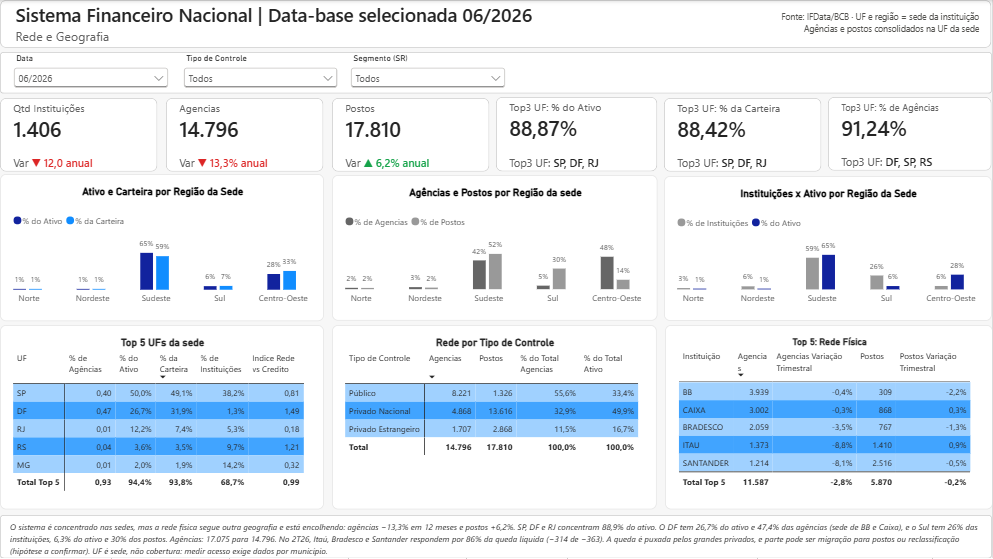

Layout of this report page (visuals, bound fields, positions):
{"tool":"powerbi","page":{"name":"Rede e Geografia","canvas":[1280,720],"ordinal":3},"visuals":[{"type":"shape","box":[0,664,1280,56],"z":0},{"type":"shape","box":[0,0,1279.1,61.8],"z":1000},{"type":"shape","box":[0,66.7,1280,53.6],"z":2000},{"type":"cardVisual","fields":{"Data":["_Medidas.Titulo Pagina"]},"box":[3.8,0,723.8,61.2],"z":3000},{"type":"textbox","box":[1695,30,213.8,46.2],"z":4000},{"type":"cardVisual","fields":{"Data":["_Medidas.Qtd Instituições"]},"box":[0,126.1,203.9,95.5],"z":5000},{"type":"cardVisual","fields":{"Data":["_Medidas.Agencias"]},"box":[214.3,126.1,203.6,95.7],"z":6000},{"type":"cardVisual","fields":{"Data":["_Medidas.Postos"]},"box":[428.4,126.1,203.9,95.5],"z":7000},{"type":"cardVisual","fields":{"Data":["_Medidas.Top3 UF Share Ativo"]},"box":[640.1,125.8,208.5,96.2],"z":8000},{"type":"cardVisual","fields":{"Data":["_Medidas.Top3 UF Share Agencias"]},"box":[1068.9,124.7,211.1,95.6],"z":9000},{"type":"clusteredColumnChart","title":"Ativo e Carteira por Região da Sede","fields":{"Category":["dim_uf.Regiao"],"Y":["_Medidas.Share Ativo (geo)","_Medidas.Share Carteira (geo)"]},"box":[0.1,224.3,418,190],"z":10000},{"type":"pivotTable","title":"Rede por Tipo de Controle","fields":{"Rows":["fato_ifdata.Tipo de Controle"],"Values":["_Medidas.Agencias","_Medidas.Postos","_Medidas.% do Total Agencias","_Medidas.% do Total Ativo"]},"box":[428.1,419.4,419,238],"z":11000},{"type":"textbox","box":[13,672,1254,47],"z":12000},{"type":"textbox","box":[958.8,13.7,304.7,47.3],"z":13000},{"type":"cardVisual","fields":{"Data":["_Medidas.Top3 UF Share Carteira"]},"box":[856.8,126.1,203.3,95.6],"z":14000},{"type":"slicer","fields":{"Values":["fato_ifdata.Tipo de Controle"]},"box":[231.8,68.5,208.2,51.8],"z":15000},{"type":"slicer","fields":{"Values":["fato_ifdata.Segmento (SR)"]},"box":[447.3,68.5,209.1,51.8],"z":16000},{"type":"slicer","fields":{"Values":["dim_calendario.Rotulo"]},"box":[12.7,68.5,209.1,51.8],"z":17000},{"type":"tableEx","title":"Top 5: Rede Física","fields":{"Values":["dim_instituicao.Instituição","_Medidas.Agencias","_Medidas.Agencias Var Trimestral %","_Medidas.Postos","_Medidas.Postos Var Trimestral %"]},"box":[858.1,419.4,423,238],"z":19000},{"type":"pivotTable","title":"Top 5 UFs da sede","fields":{"Rows":["dim_uf.UF"],"Values":["_Medidas.Share Agencias (geo)","_Medidas.Share Ativo (geo)","_Medidas.Share Carteira (geo)","_Medidas.Share Instituicoes (geo)","_Medidas.Indice Rede vs Credito (geo)"]},"box":[0,419.1,417.7,238.5],"z":20000},{"type":"clusteredColumnChart","title":"Agências e Postos por Região da sede","fields":{"Category":["dim_uf.Regiao"],"Y":["_Medidas.Share Agencias (geo)","_Medidas.Share Postos (geo)"]},"box":[428.1,226.3,420,188],"z":21000},{"type":"clusteredColumnChart","title":"Instituições x Ativo por Região da Sede","fields":{"Category":["dim_uf.Regiao"],"Y":["_Medidas.Share Instituicoes (geo)","_Medidas.Share Ativo (geo)"]},"box":[857.1,227.3,423,187],"z":22000}]}

Visuals, with their boxes in screenshot pixels (x1, y1, x2, y2), scaled from the page's 1280x720 canvas onto the 993x559 screenshot:
shape: (left=0, top=516, right=992, bottom=558)
shape: (left=0, top=0, right=992, bottom=48)
shape: (left=0, top=52, right=992, bottom=93)
cardVisual - _Medidas.Titulo Pagina: (left=3, top=0, right=564, bottom=48)
cardVisual - _Medidas.Qtd Instituições: (left=0, top=98, right=158, bottom=172)
cardVisual - _Medidas.Agencias: (left=166, top=98, right=324, bottom=172)
cardVisual - _Medidas.Postos: (left=332, top=98, right=491, bottom=172)
cardVisual - _Medidas.Top3 UF Share Ativo: (left=497, top=98, right=658, bottom=172)
cardVisual - _Medidas.Top3 UF Share Agencias: (left=829, top=97, right=992, bottom=171)
"Ativo e Carteira por Região da Sede" clusteredColumnChart: (left=0, top=174, right=324, bottom=322)
"Rede por Tipo de Controle" pivotTable: (left=332, top=326, right=657, bottom=510)
textbox: (left=10, top=522, right=983, bottom=558)
textbox: (left=744, top=11, right=980, bottom=47)
cardVisual - _Medidas.Top3 UF Share Carteira: (left=665, top=98, right=822, bottom=172)
slicer - fato_ifdata.Tipo de Controle: (left=180, top=53, right=341, bottom=93)
slicer - fato_ifdata.Segmento (SR): (left=347, top=53, right=509, bottom=93)
slicer - dim_calendario.Rotulo: (left=10, top=53, right=172, bottom=93)
"Top 5: Rede Física" tableEx: (left=666, top=326, right=992, bottom=510)
"Top 5 UFs da sede" pivotTable: (left=0, top=325, right=324, bottom=511)
"Agências e Postos por Região da sede" clusteredColumnChart: (left=332, top=176, right=658, bottom=322)
"Instituições x Ativo por Região da Sede" clusteredColumnChart: (left=665, top=176, right=992, bottom=322)
